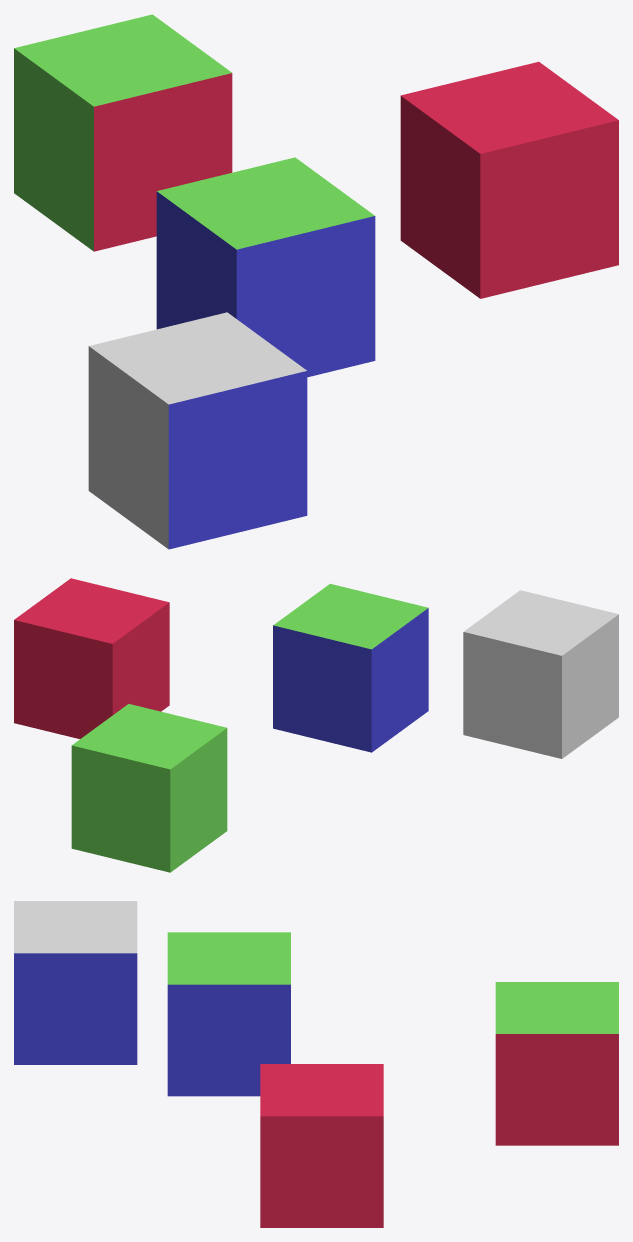
3 views of the same model, one above another, from view 1: azimuth 30°, elevation 25°; view 2: azimuth 150°, elevation 25°; view 3: azimuth 270°, elevation 25° (orthographic). The views are drawn at different scales.
Parts seen in each view (by area): view 1: Cube, Cube.001, Cube.002, Cube.003; view 2: Cube.002, Cube.003, Cube, Cube.001; view 3: Cube, Cube.001, Cube.002, Cube.003.
Boxes of the visible parts, box(x1,y1,x2,y2) form: Cube: box(88, 312, 307, 549); Cube.001: box(400, 61, 618, 298); Cube.002: box(14, 14, 232, 251); Cube.003: box(156, 157, 375, 377); Cube.002: box(71, 704, 227, 872); Cube.003: box(273, 583, 428, 752); Cube: box(463, 590, 618, 758); Cube.001: box(14, 578, 169, 738); Cube: box(14, 901, 137, 1064); Cube.001: box(260, 1064, 383, 1227); Cube.002: box(495, 982, 618, 1145); Cube.003: box(167, 932, 290, 1096).
Size of the model in its own units: 88.07 by 25.67 by 98.14.
